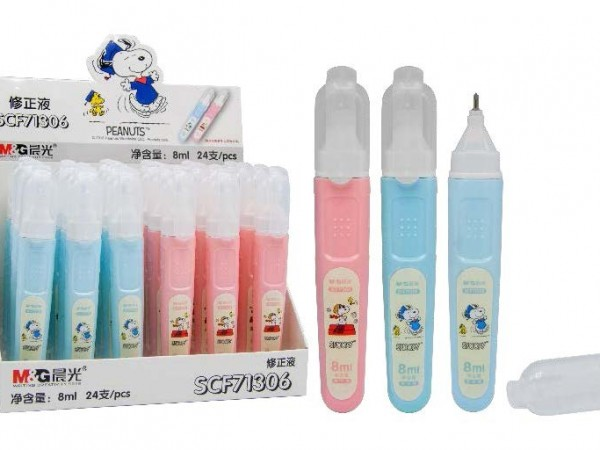Correction_fluid: (312, 63, 373, 415), (379, 64, 439, 415), (445, 91, 505, 415), (13, 167, 57, 360), (105, 170, 149, 359), (251, 160, 292, 351), (157, 165, 196, 357), (203, 163, 241, 353), (64, 169, 100, 360)
